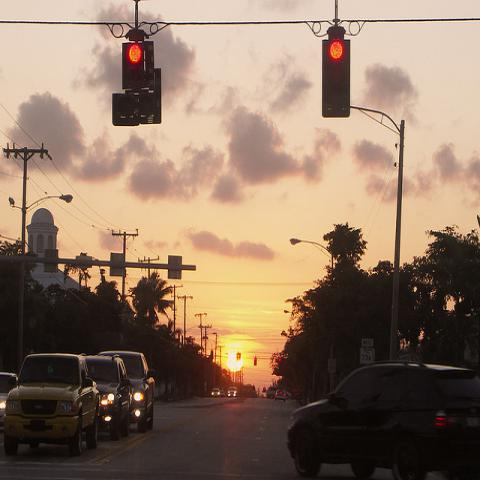car: (287, 357, 479, 479), (4, 351, 102, 458), (100, 348, 157, 432), (80, 353, 132, 440), (0, 372, 18, 433), (266, 386, 278, 400), (226, 386, 237, 398), (275, 390, 286, 402), (212, 388, 219, 396), (220, 390, 225, 396)
